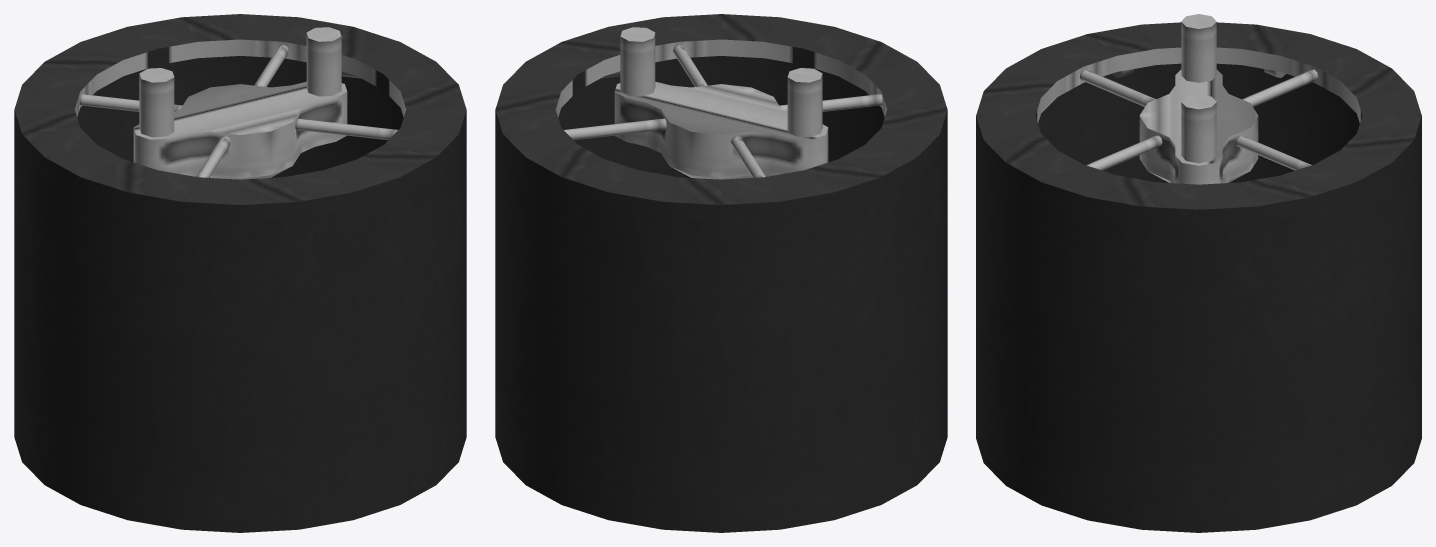
Rendered from arrow_engine_s0p5_3_bare.obj.
3 renders of one model, left to right at view 1: azimuth 30°, elevation 25°; view 2: azimuth 150°, elevation 25°; view 3: azimuth 270°, elevation 25°, orthographic.
Visible parts, largest first — view 1: fairing1, mesh1; view 2: fairing1, mesh1; view 3: fairing1, mesh1.
Boxes of the visible parts, x1,y1,x2,y2 form: fairing1: (14, 56, 466, 532); mesh1: (14, 14, 466, 221); fairing1: (495, 56, 947, 532); mesh1: (495, 14, 947, 221); fairing1: (976, 63, 1421, 532); mesh1: (976, 14, 1421, 225).
Bounding box in the file's own units: 0.9375 × 0.875 × 0.9375.
